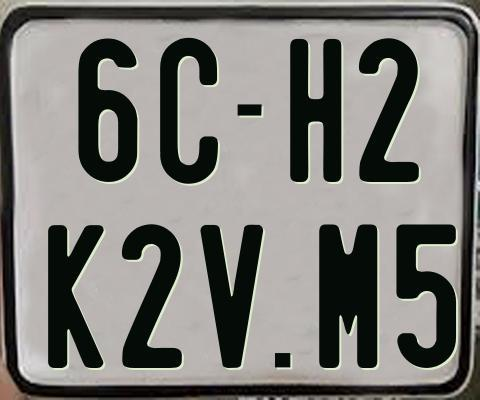2: (122, 222, 187, 368), (358, 37, 419, 185)
5: (394, 224, 455, 369)
6: (77, 38, 139, 187)
C: (157, 36, 217, 186)
H: (289, 38, 343, 186)
K: (47, 225, 104, 371)
M: (318, 223, 377, 368)
V: (198, 223, 262, 372)
